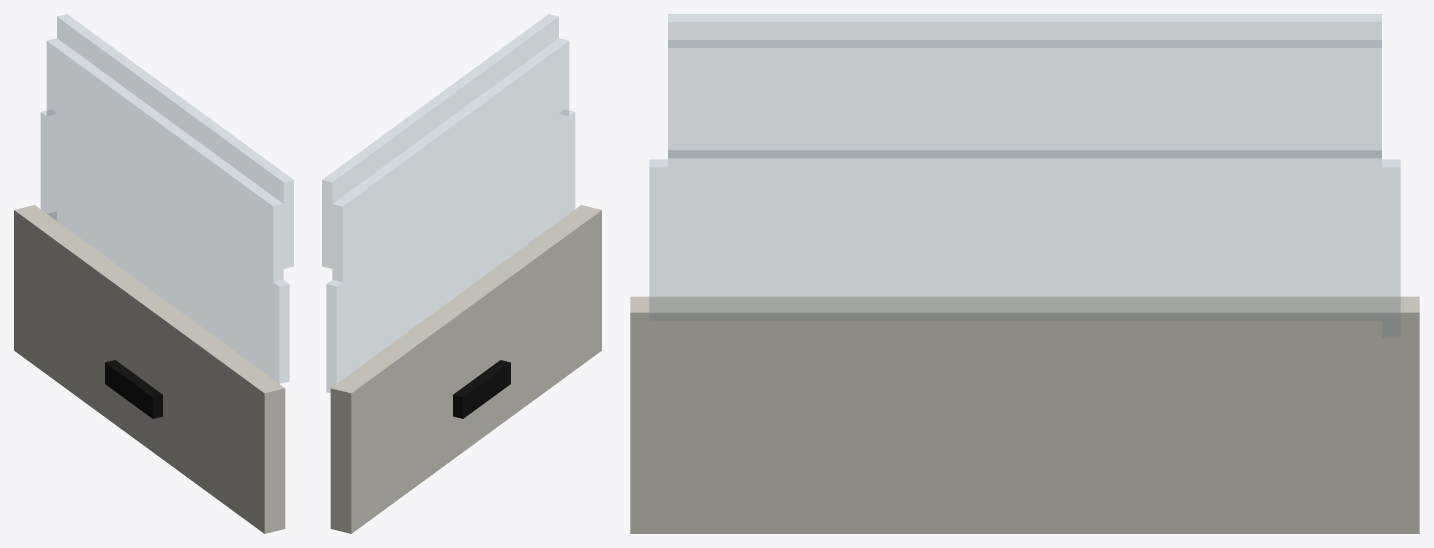
Rendered from classic_4x4_tailgate.glb.
3 renders of one model, left to right at view 1: azimuth 30°, elevation 25°; view 2: azimuth 150°, elevation 25°; view 3: azimuth 270°, elevation 25°, orthographic. The views are drawn at different scales.
Parts seen in each view (by area): view 1: body:compound; view 2: body:compound; view 3: body:compound.
Part boxes in pixels (bbox=[...]): body:compound: bbox=[14, 14, 293, 533]; body:compound: bbox=[322, 14, 601, 533]; body:compound: bbox=[630, 14, 1419, 533].
Bounding box in the file's own units: 0.1562 × 0.9688 × 1.31.
